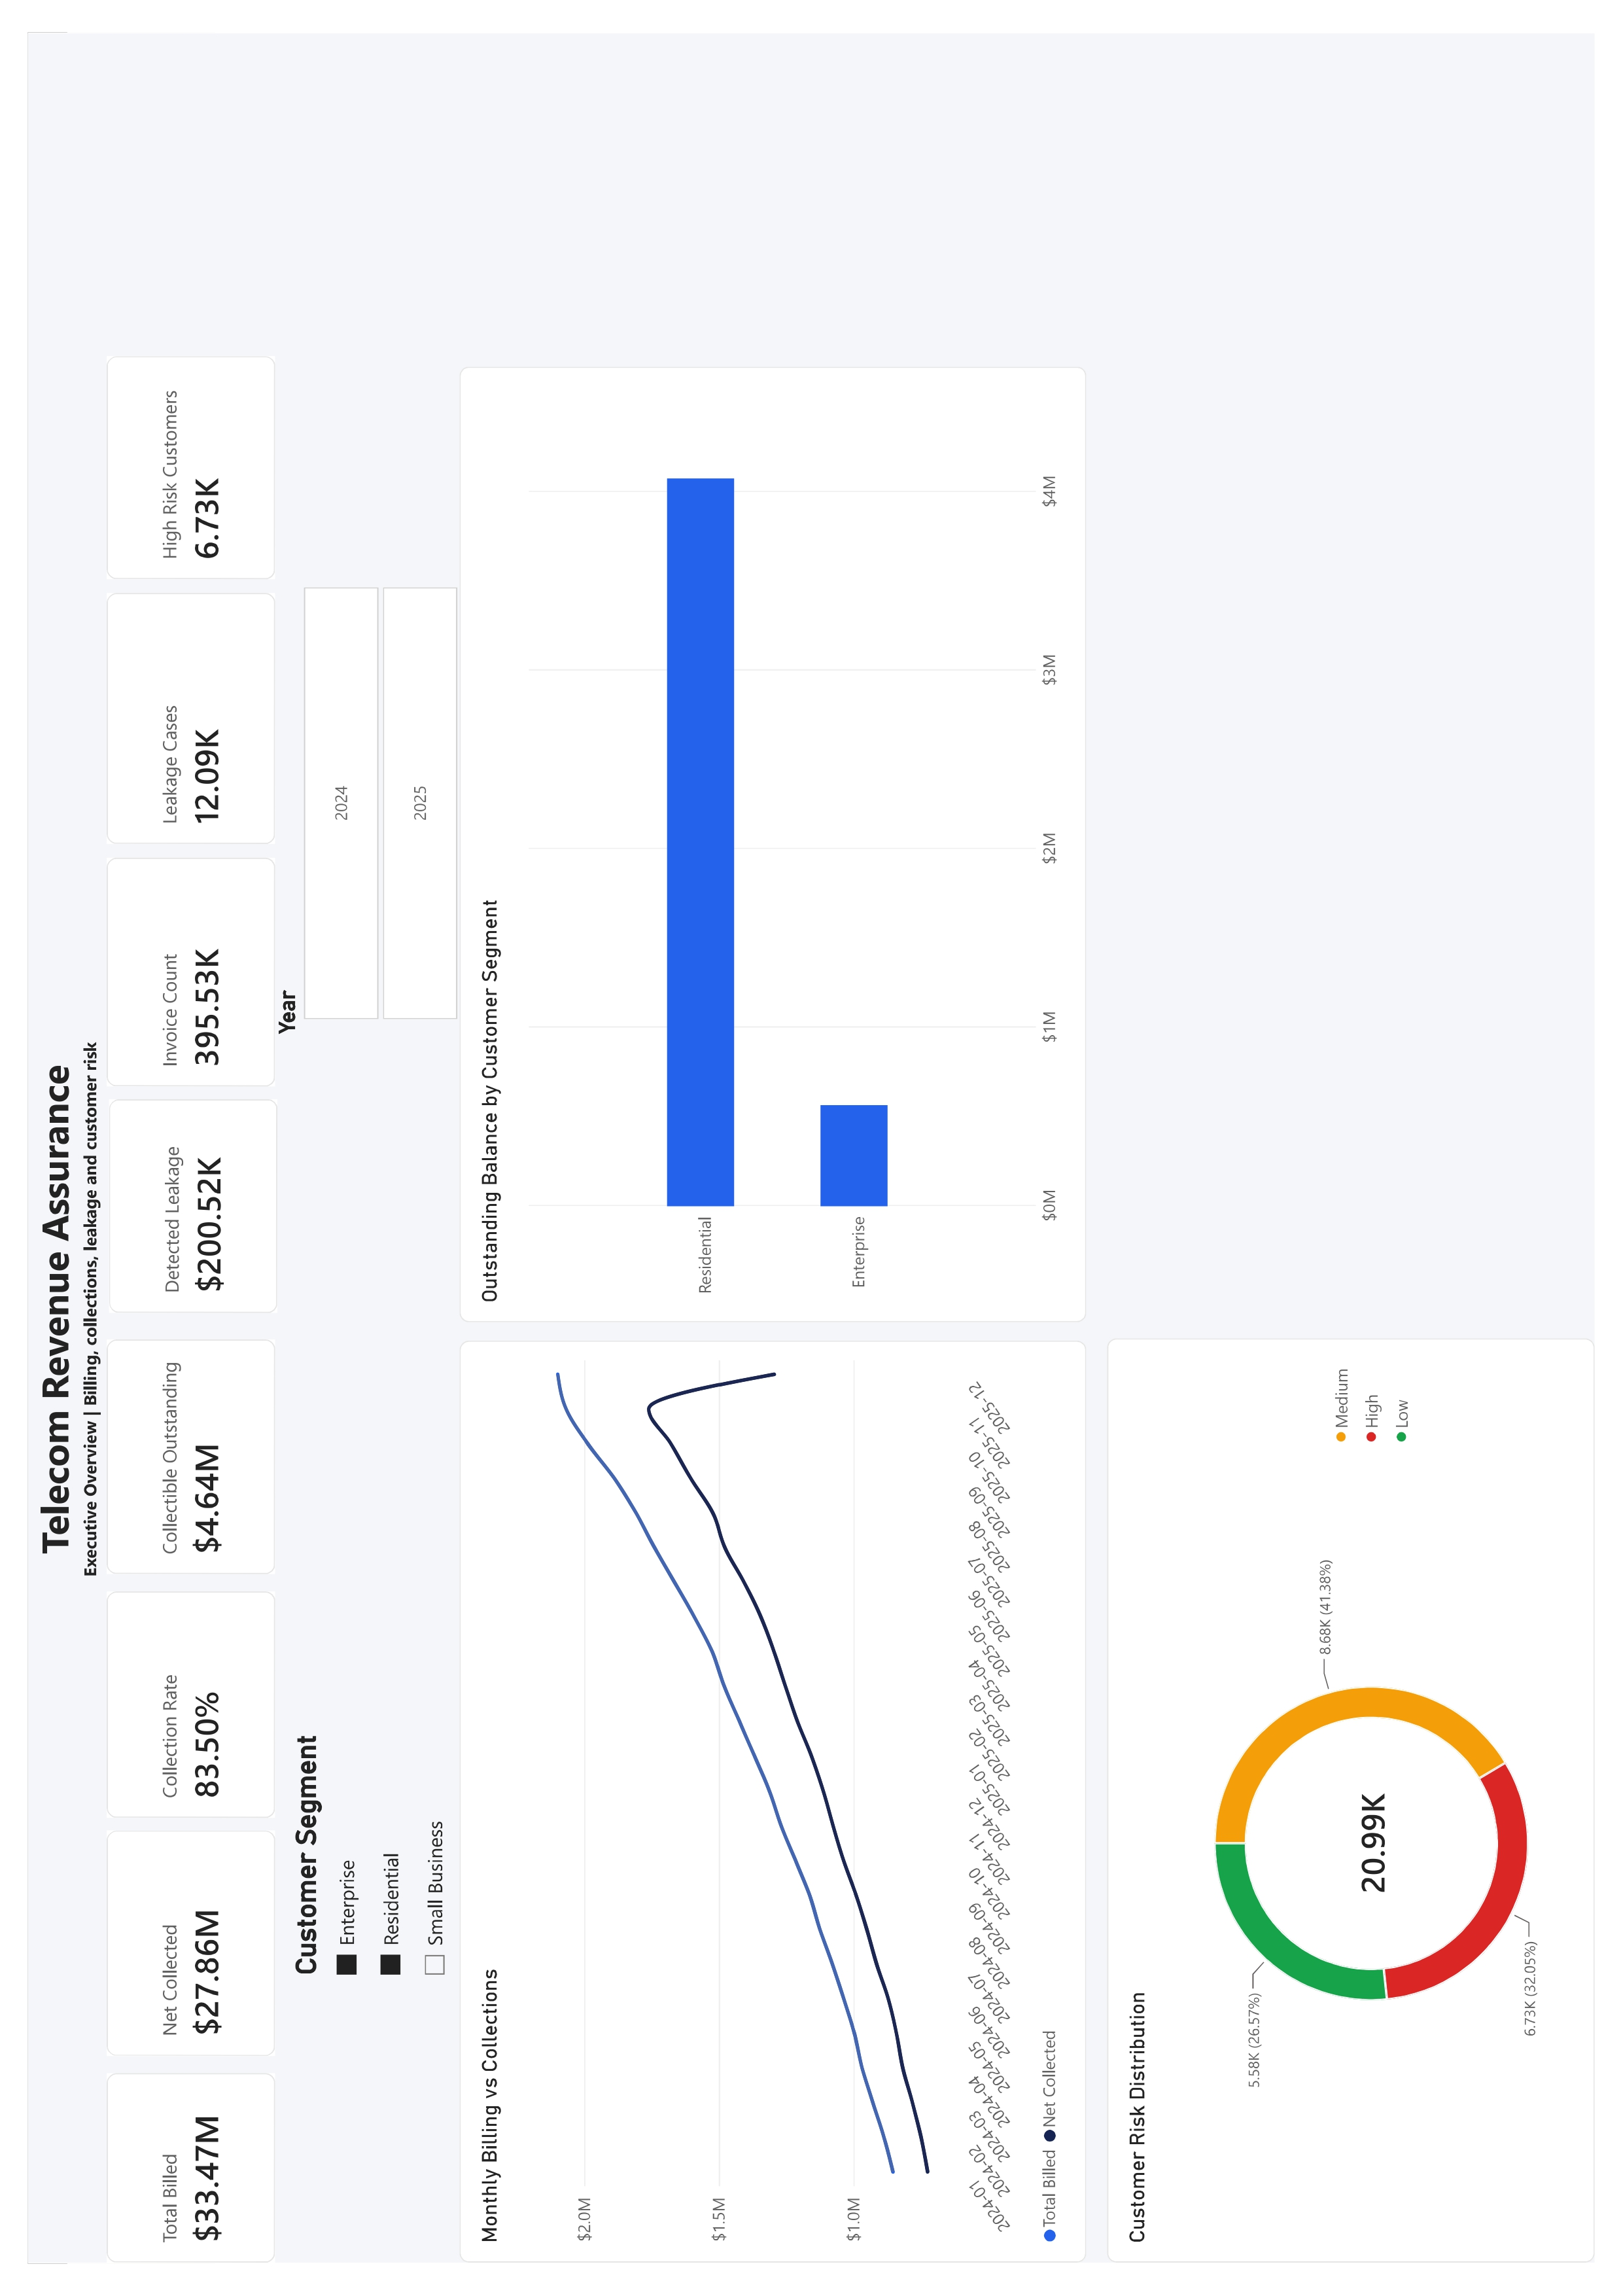

What the dashboard file says about the page in this screenshot:
{"tool":"powerbi","page":{"name":"Executive Overview","canvas":[1920,1350],"ordinal":0},"visuals":[{"type":"cardVisual","fields":{"Data":["Calendar.Total Billed"]},"box":[0,68.3,163.3,145],"z":0},{"type":"cardVisual","fields":{"Data":["Calendar.Net Collected"]},"box":[178.3,68.3,193.3,145],"z":1000},{"type":"cardVisual","fields":{"Data":["Calendar.Collection Rate"]},"box":[383.3,68.3,195,145],"z":2000},{"type":"cardVisual","fields":{"Data":["Calendar.Collectible Outstanding"]},"box":[593.3,68.3,201.7,145],"z":3000},{"type":"cardVisual","fields":{"Data":["Calendar.Detected Leakage"]},"box":[818.3,70,183.3,145],"z":4000},{"type":"cardVisual","fields":{"Data":["Calendar.Invoice Count"]},"box":[1013.3,68.3,196.7,145],"z":5000},{"type":"cardVisual","fields":{"Data":["Calendar.Leakage Cases"]},"box":[1221.7,68.3,216.7,145],"z":6000},{"type":"cardVisual","fields":{"Data":["Calendar.High Risk Customers"]},"box":[1450,68.3,191.7,145],"z":7000},{"type":"lineChart","title":"Monthly Billing vs Collections","fields":{"Category":["Calendar.Year Month"],"Y":["KPI Measures.Total Billed","KPI Measures.Net Collected"]},"box":[0,372.4,794.3,539.8],"z":8000},{"type":"clusteredBarChart","title":"Outstanding Balance by Customer Segment","fields":{"Category":["public vw_customer_risk.customer_segment"],"Y":["KPI Measures.Collectible Outstanding"]},"box":[810,372.4,823.3,540],"z":9000},{"type":"donutChart","title":"Customer Risk Distribution","fields":{"Category":["public vw_customer_risk.risk_level"],"Y":["KPI Measures.Customers Assessed"]},"box":[0,930,795.7,420],"z":10000},{"type":"textbox","box":[0,0,1641.7,68.3],"z":11000},{"type":"slicer","fields":{"Values":["public vw_customer_risk.customer_segment"]},"box":[240.3,225.7,371.7,146.7],"z":12000},{"type":"slicer","title":"Year","fields":{"Values":["Calendar.Year"]},"box":[1050.3,212.4,411.7,160],"z":13000}]}

Visuals, with their boxes on the page's 1920x1350 design canvas (x1, y1, x2, y2). These are canvas units, not pixel positions in the 1623x2296 screenshot, which may show the page scaled, cropped or inside an application window:
cardVisual - Calendar.Total Billed: select_region(0, 68, 163, 213)
cardVisual - Calendar.Net Collected: select_region(178, 68, 372, 213)
cardVisual - Calendar.Collection Rate: select_region(383, 68, 578, 213)
cardVisual - Calendar.Collectible Outstanding: select_region(593, 68, 795, 213)
cardVisual - Calendar.Detected Leakage: select_region(818, 70, 1002, 215)
cardVisual - Calendar.Invoice Count: select_region(1013, 68, 1210, 213)
cardVisual - Calendar.Leakage Cases: select_region(1222, 68, 1438, 213)
cardVisual - Calendar.High Risk Customers: select_region(1450, 68, 1642, 213)
"Monthly Billing vs Collections" lineChart: select_region(0, 372, 794, 912)
"Outstanding Balance by Customer Segment" clusteredBarChart: select_region(810, 372, 1633, 912)
"Customer Risk Distribution" donutChart: select_region(0, 930, 796, 1350)
textbox: select_region(0, 0, 1642, 68)
slicer - public vw_customer_risk.customer_segment: select_region(240, 226, 612, 372)
"Year" slicer: select_region(1050, 212, 1462, 372)
